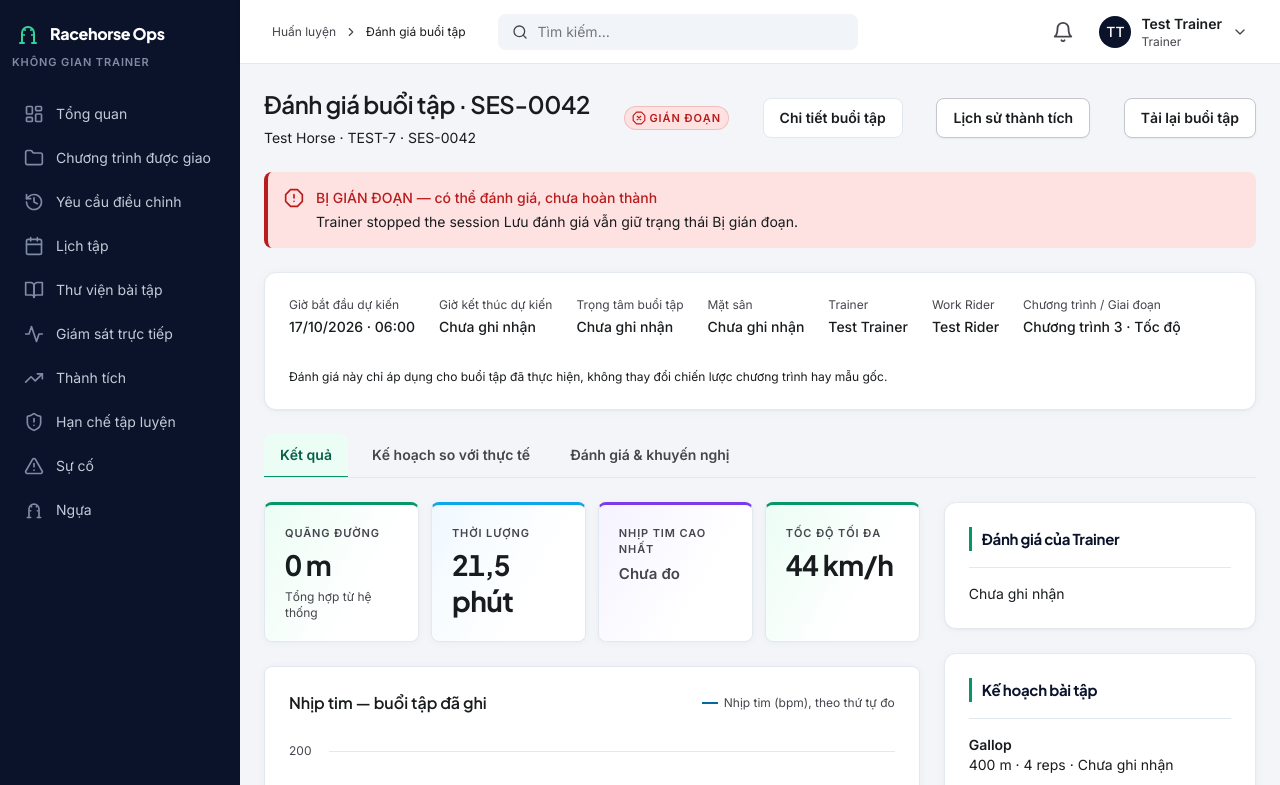
Scenario: performance history contract › loads horse-scoped history, retains null and filters by from/to
Expected: the tab "Kết quả" is shown, [264, 434, 348, 478]
Click the button "Lịch sử thành tích" at [1013, 118], box [936, 98, 1090, 138]
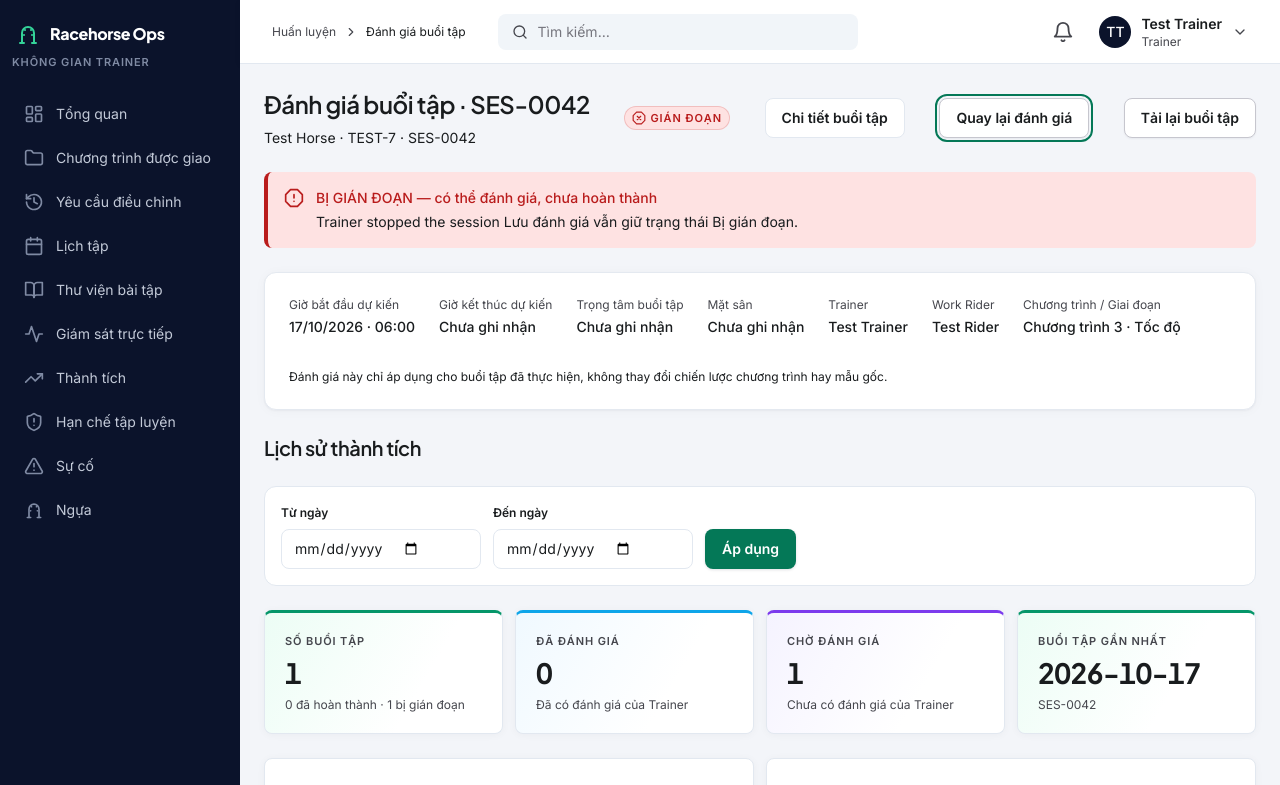
Type "2026-10-01" into the date field labelled "Từ ngày" at [381, 549], box [281, 529, 481, 569]
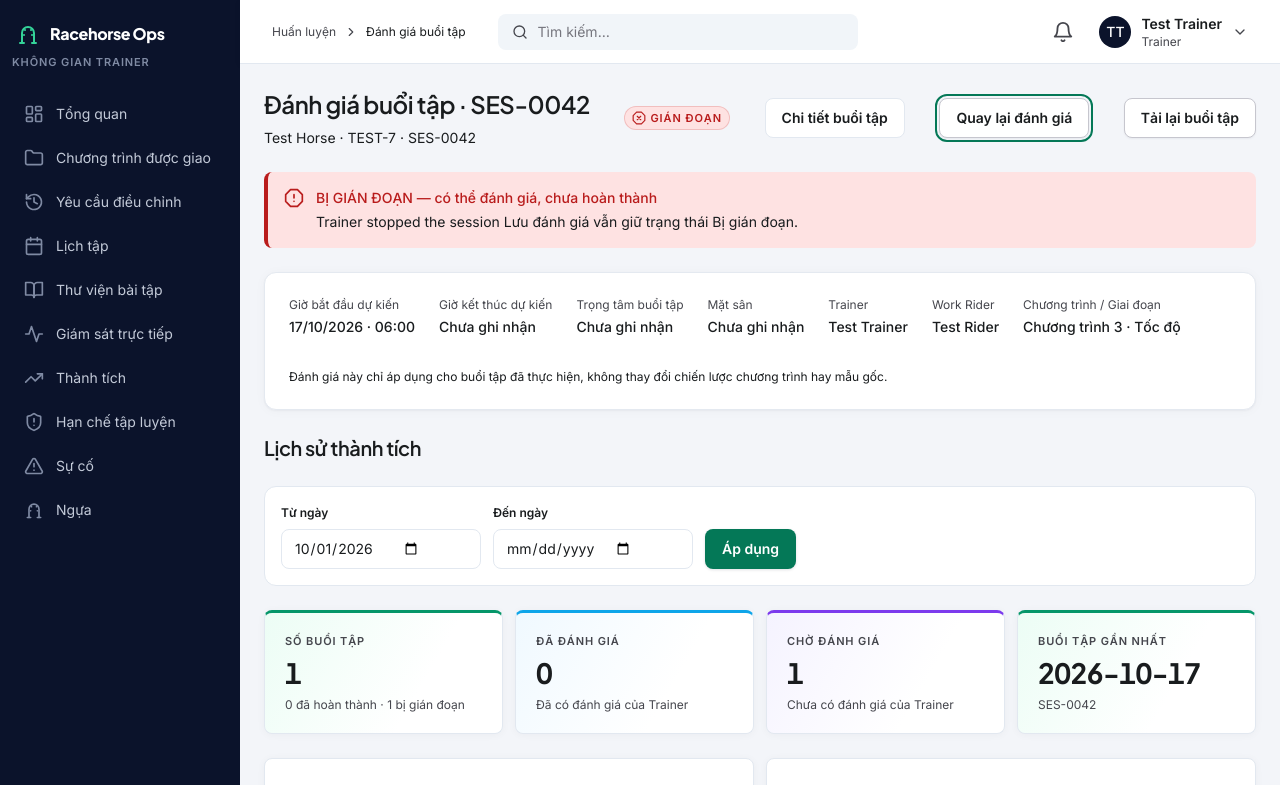
Type "2026-10-17" into the date field labelled "Đến ngày" at [593, 549], box [493, 529, 693, 569]
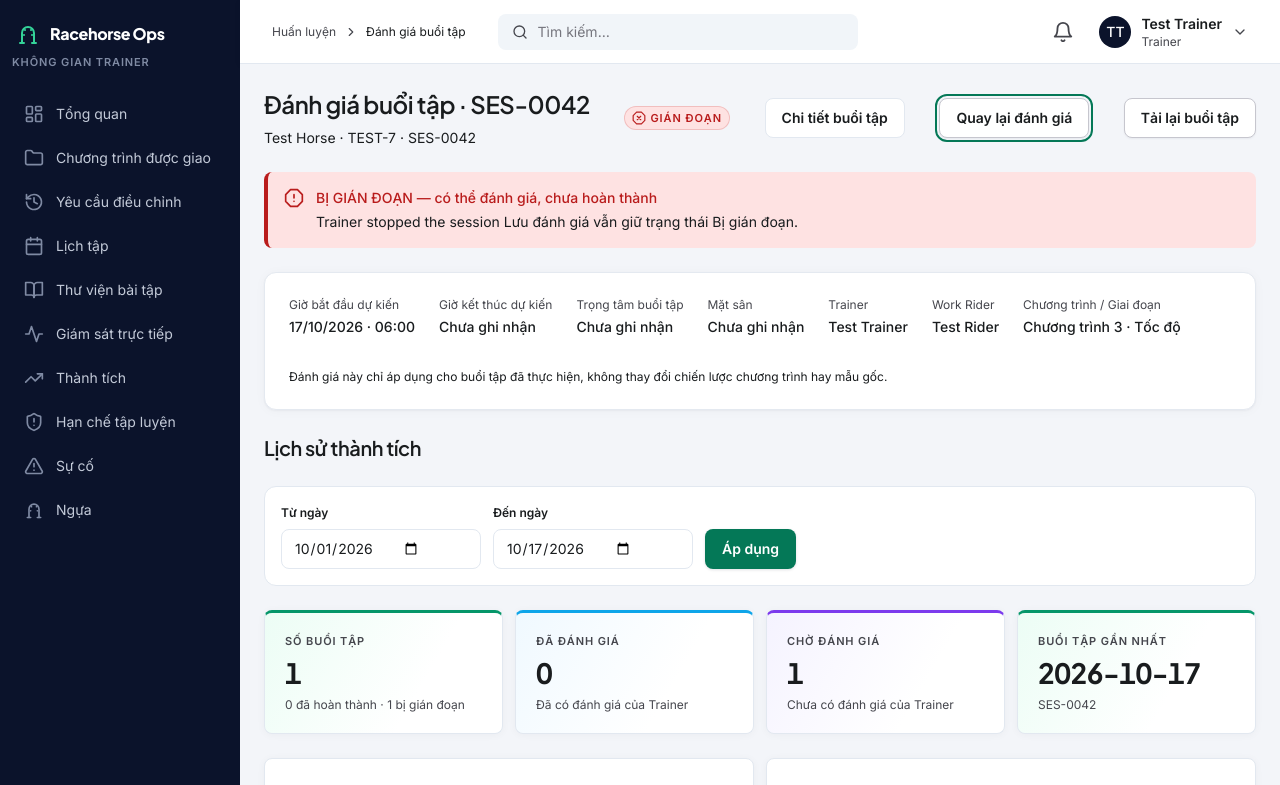
Click the button "Áp dụng" at [751, 549], box [705, 529, 796, 569]
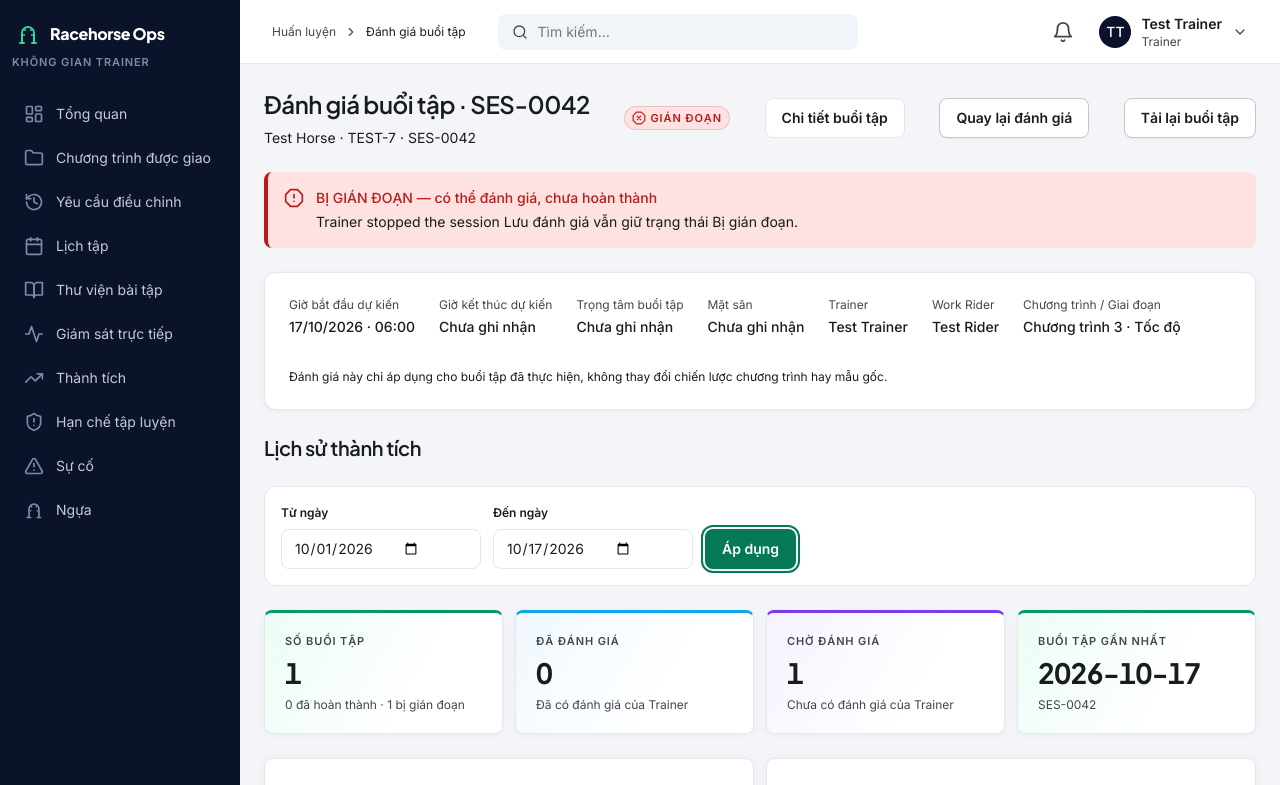
Type "2026-11-01" into the date field labelled "Từ ngày" at [381, 549], box [281, 529, 481, 569]
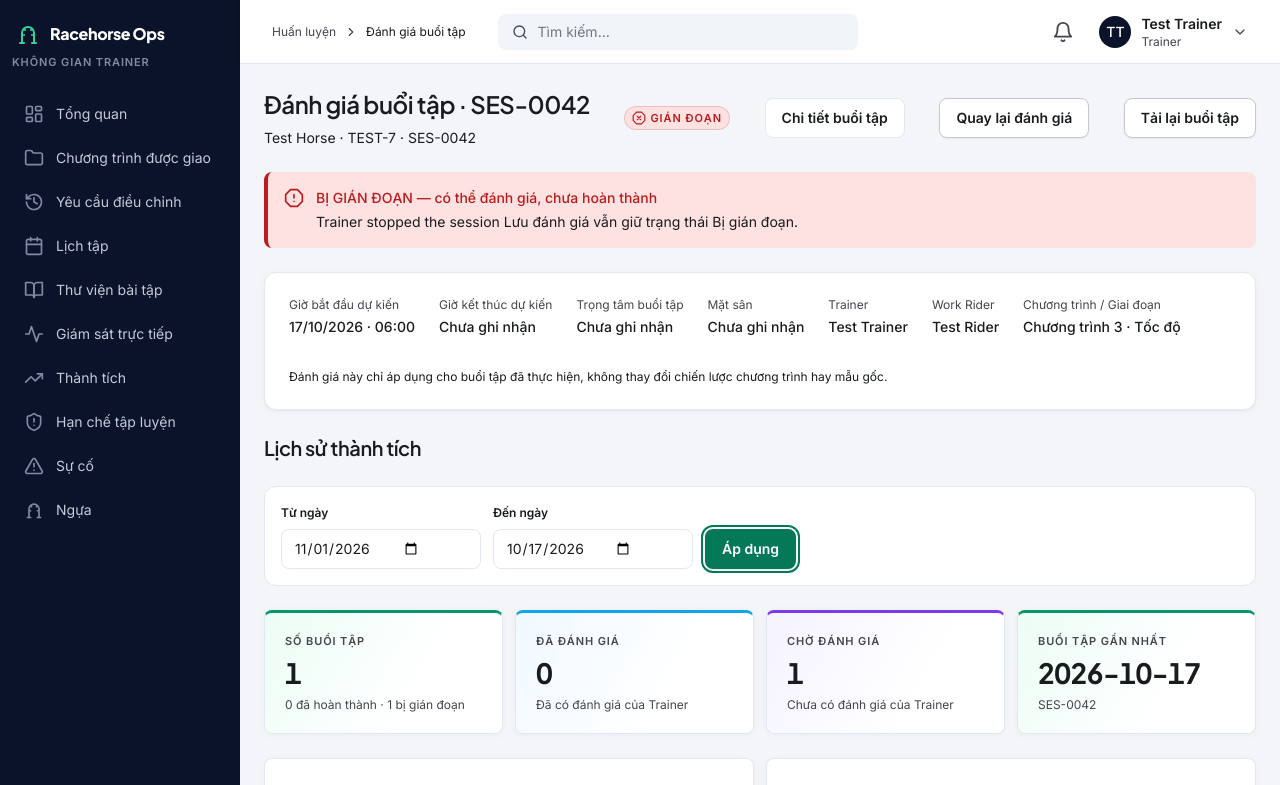
Click the button "Áp dụng" at [751, 549], box [705, 529, 796, 569]
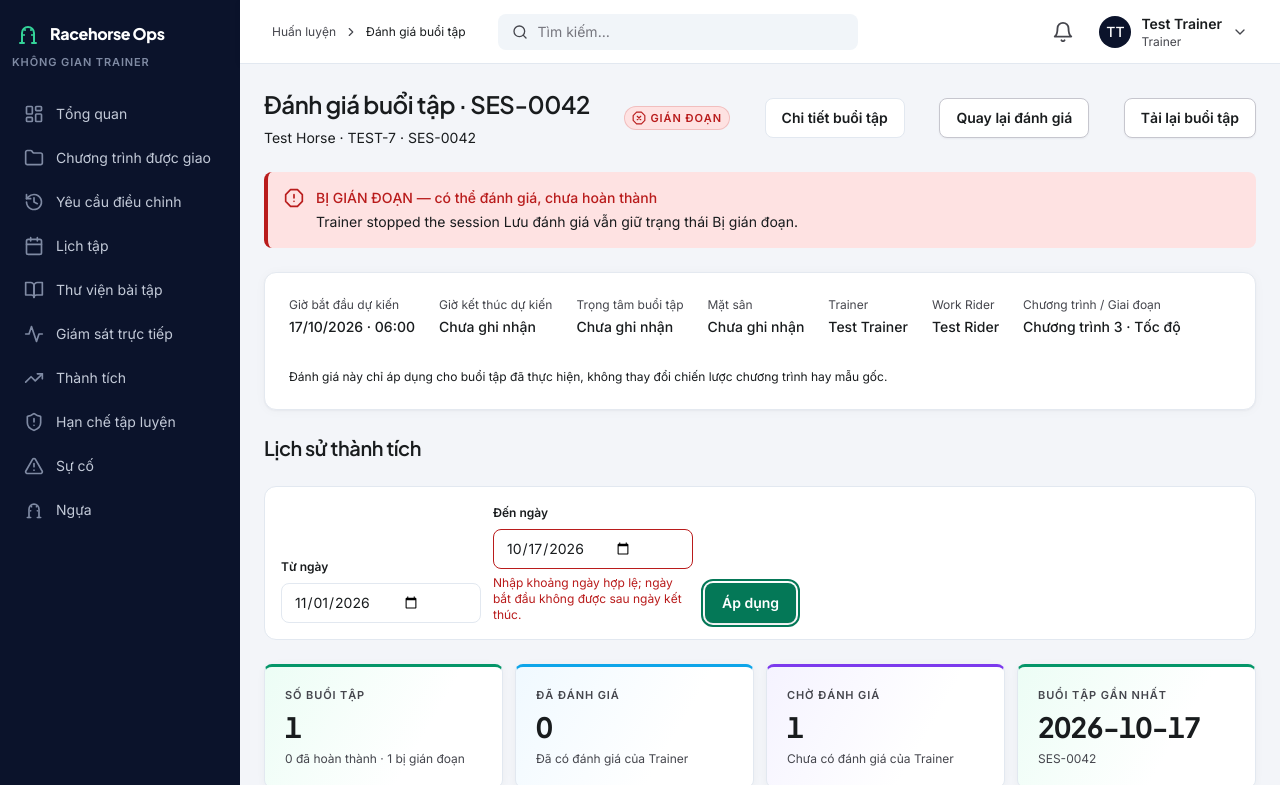
Expected: the text "Nhập khoảng ngày hợp lệ; ngày bắt đầu không được sau ngày kết thúc." is shown, [493, 575, 693, 623]
